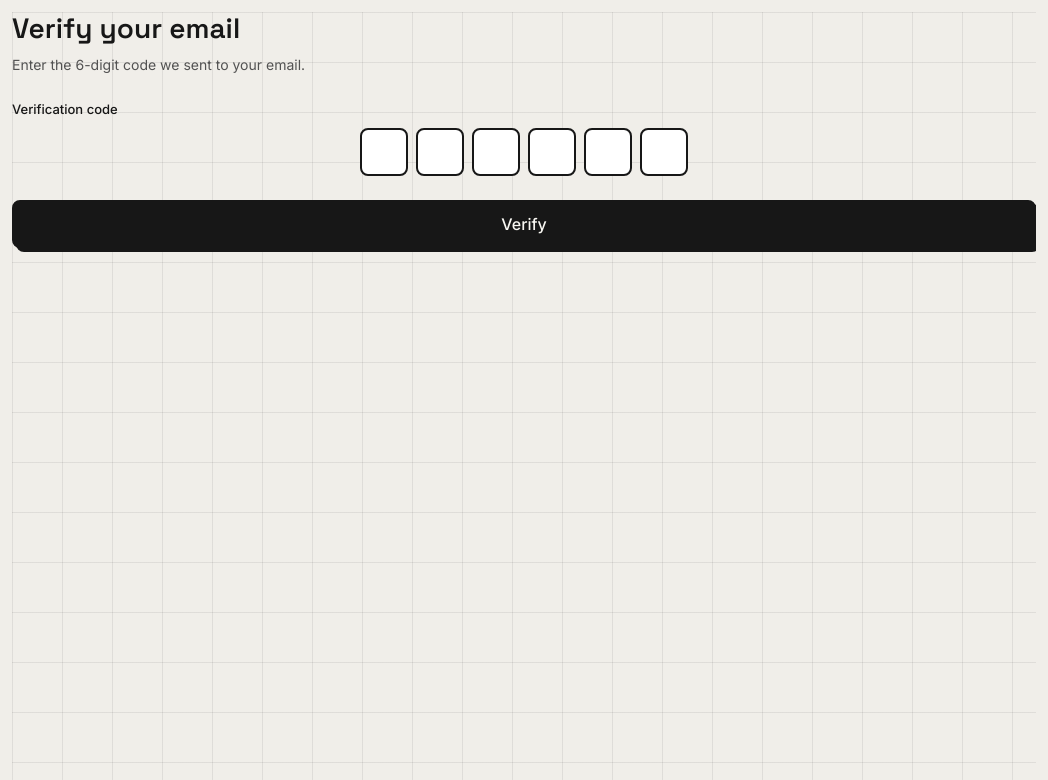
Scenario: OTPVerification › asks for the missing digits and focuses the first empty box
The image size is (1048, 780).
Step 1. Click the field named "Digit 1 of 6" → (384, 152), box [362,130,406,174]
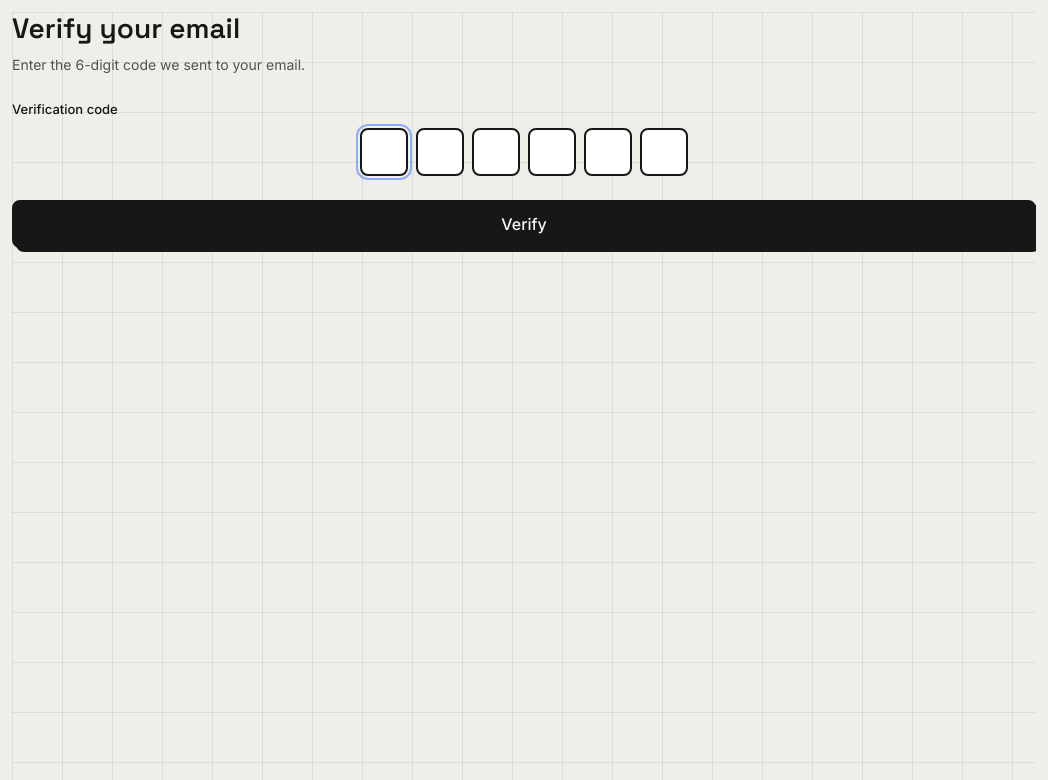
Step 2. Type keys "123"
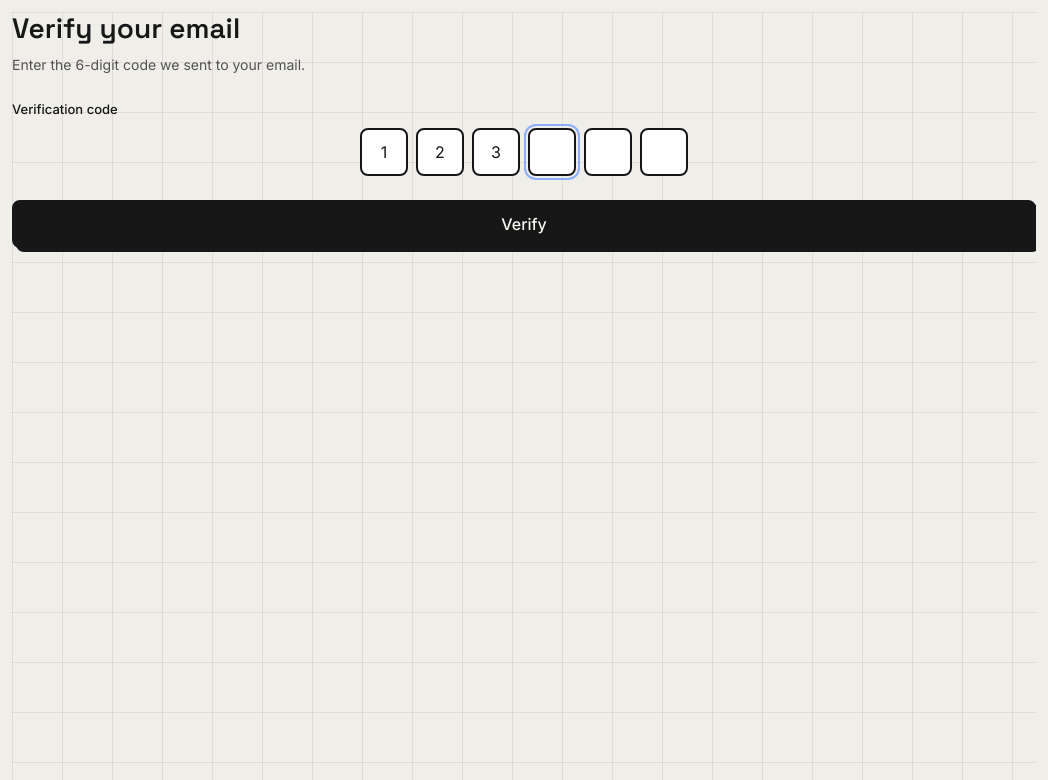
Step 3. Click the button "Verify" → (524, 224), box [12,200,1036,248]
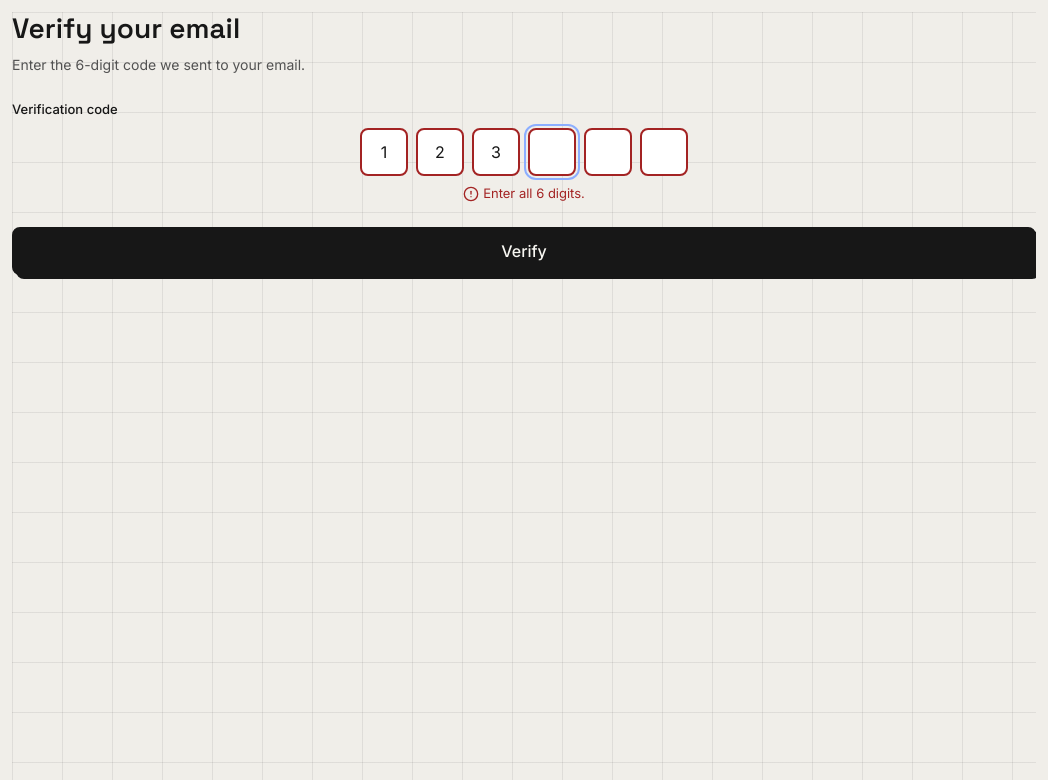
Expected: the message reads "Enter all 6 digits.", [483,185,585,201]
Step 4. Type keys "4"
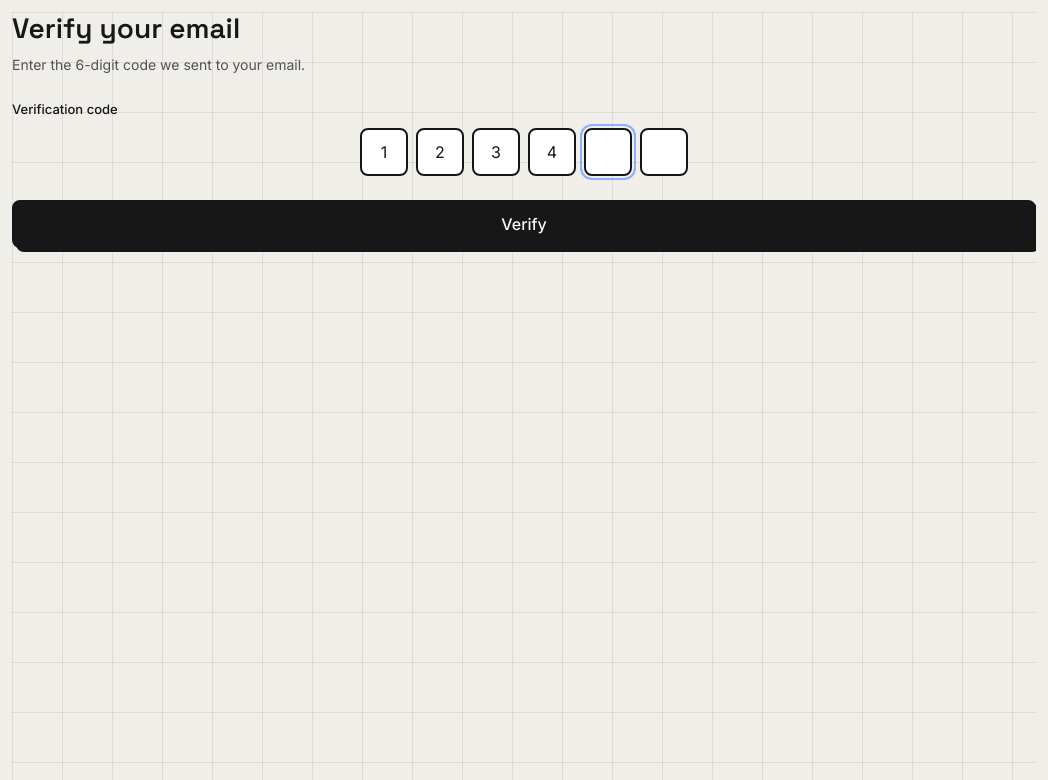
Expected: the message "Enter all 6 digits." is gone
